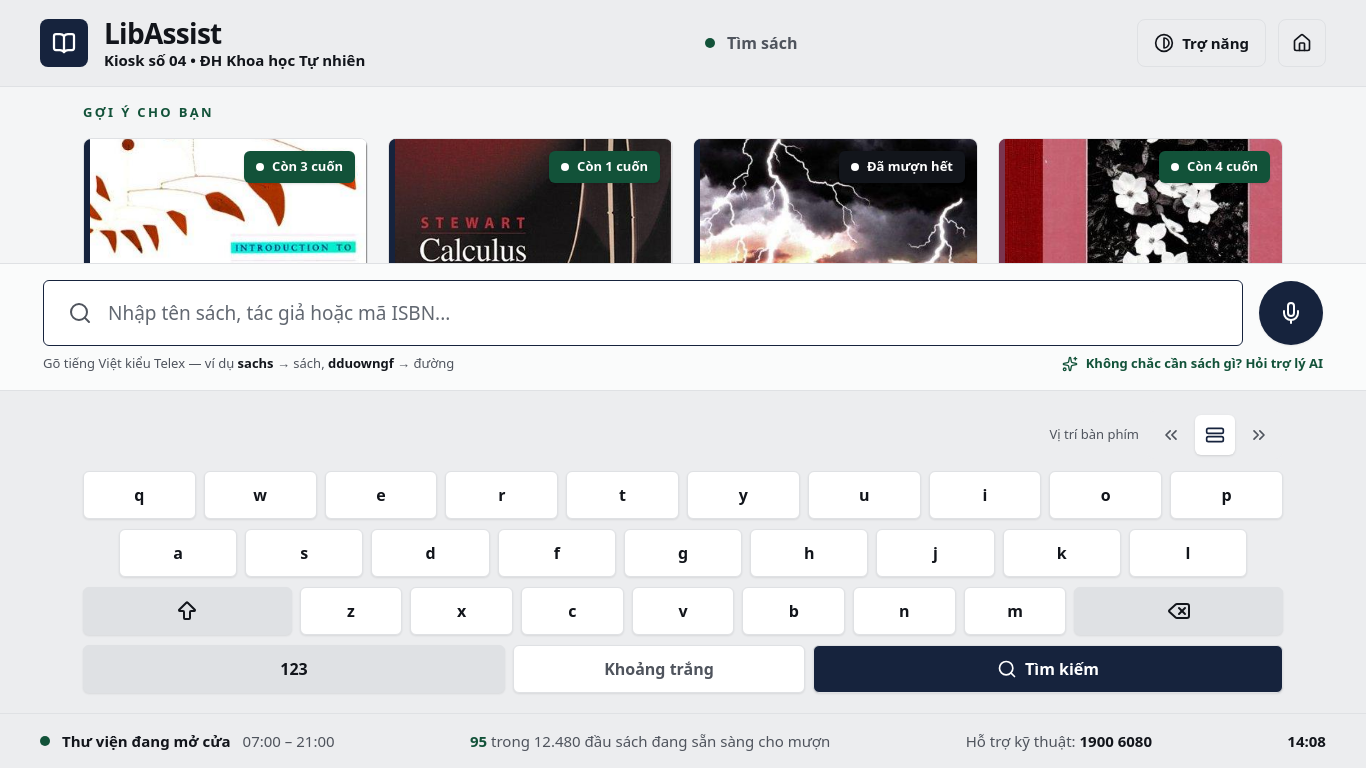
Scenario: Kiosk SearchPage › backspace deletes the last character
Click the button "a" at (178, 552), box [119,528,237,576]
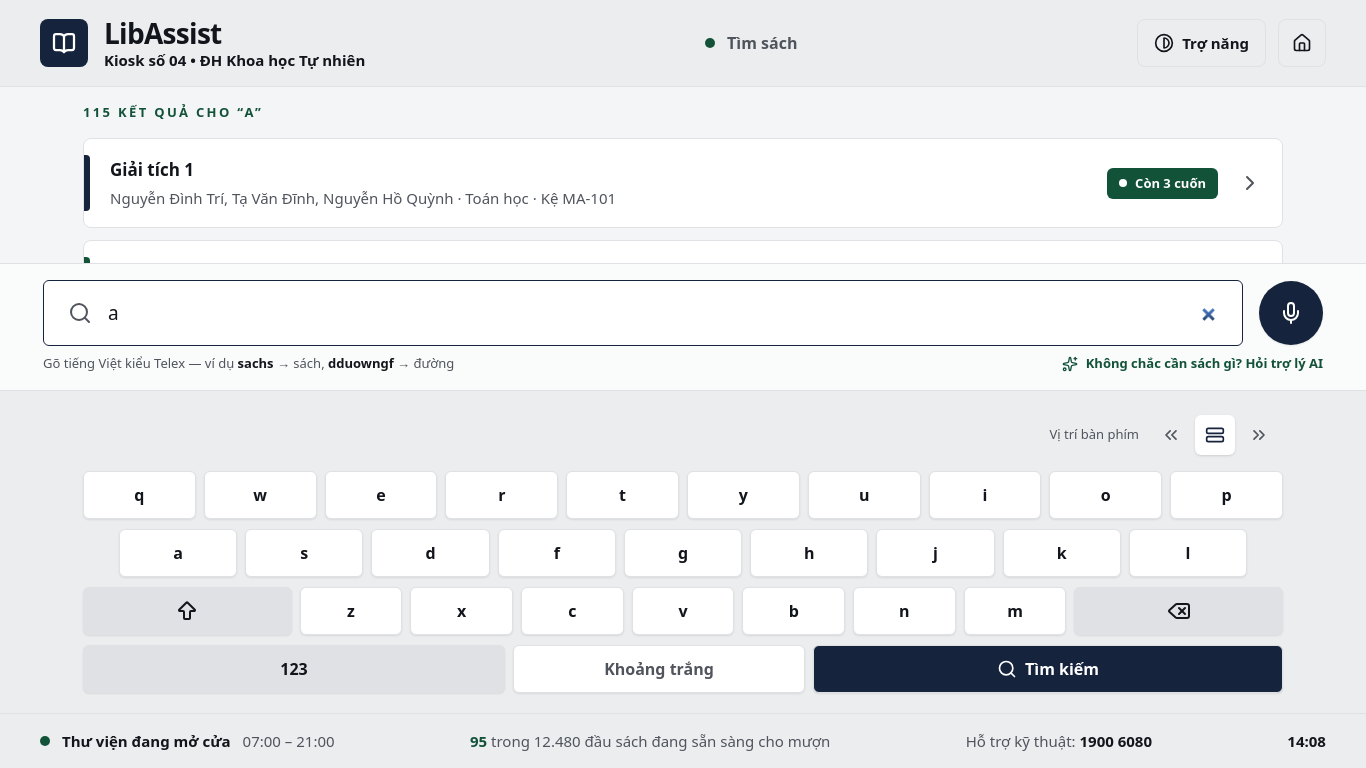
Click the button "b" at (794, 610), box [742,586,845,634]
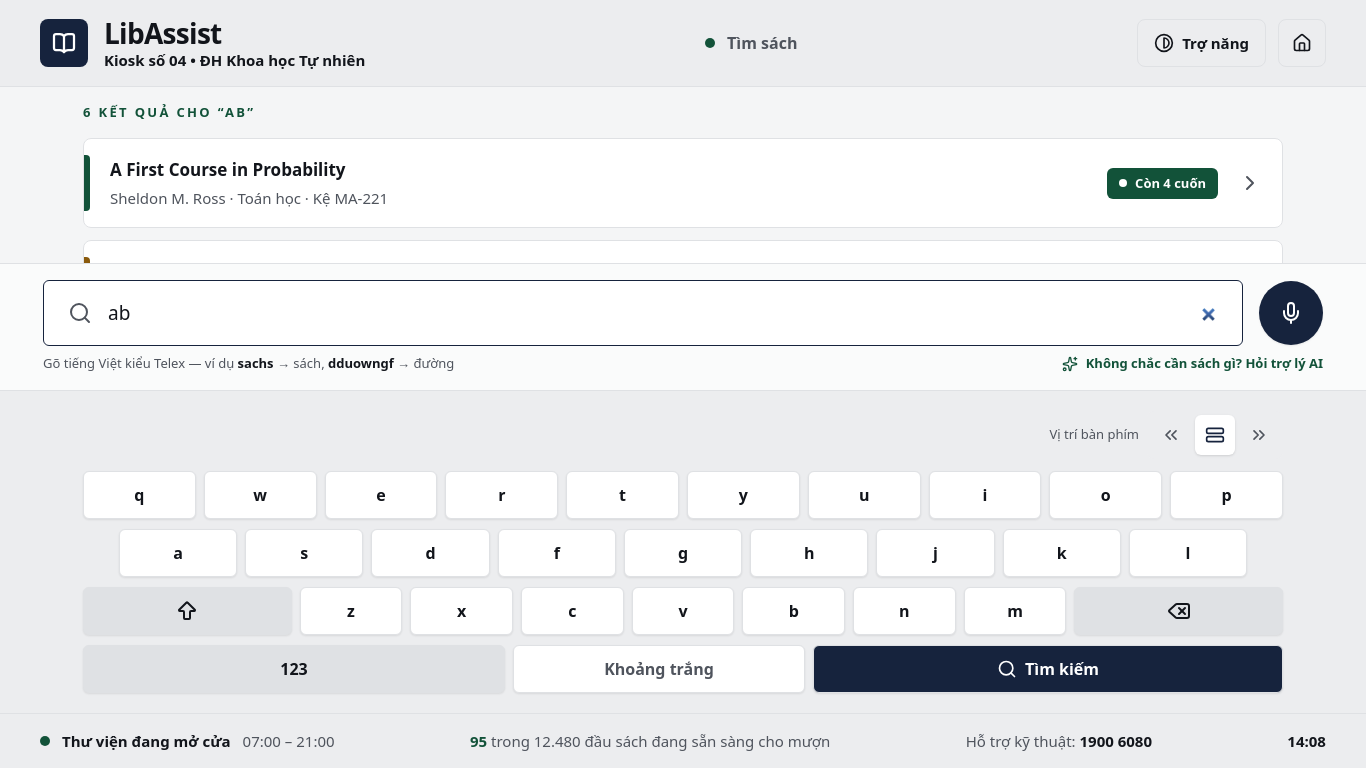
Click the button named "Xoá ký tự" at (1179, 610), box [1074,586,1283,634]
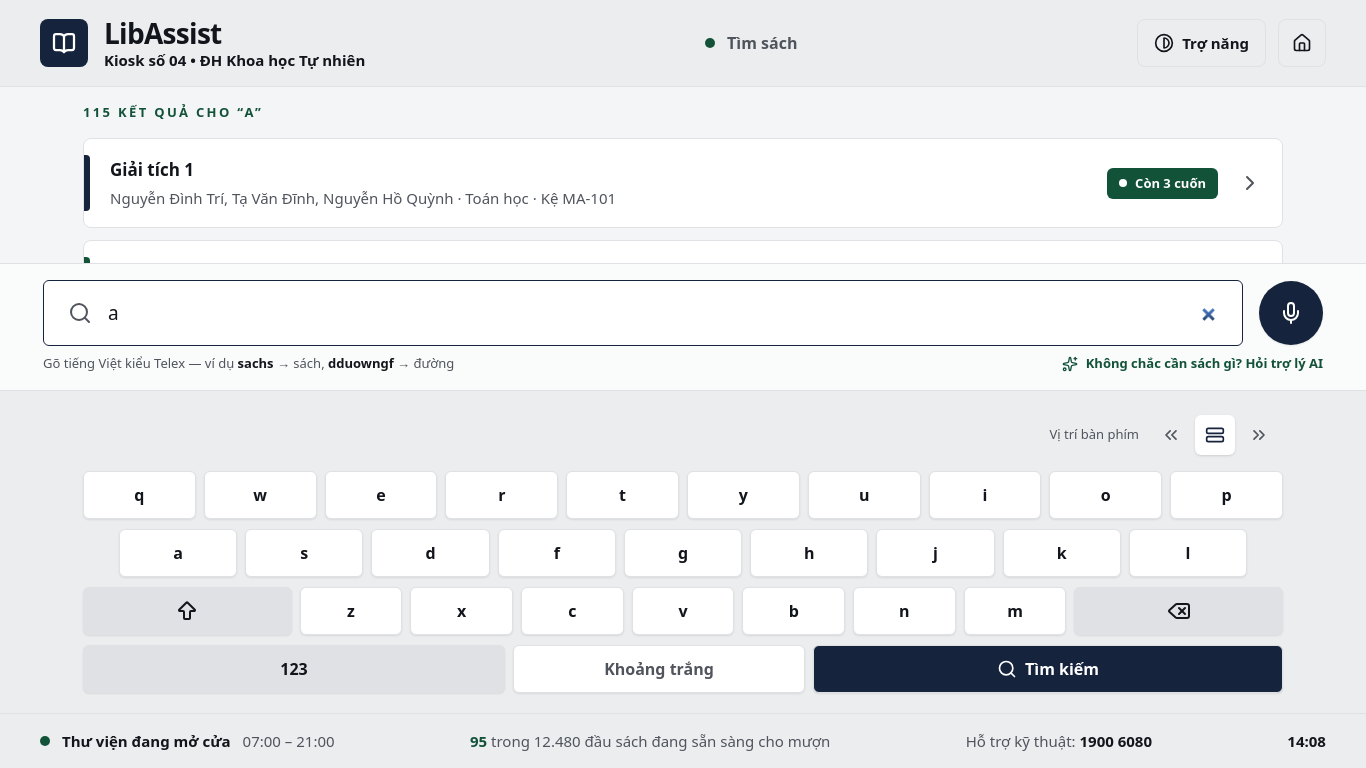
Check: the search field holds "a", box [108,281,1218,345]
